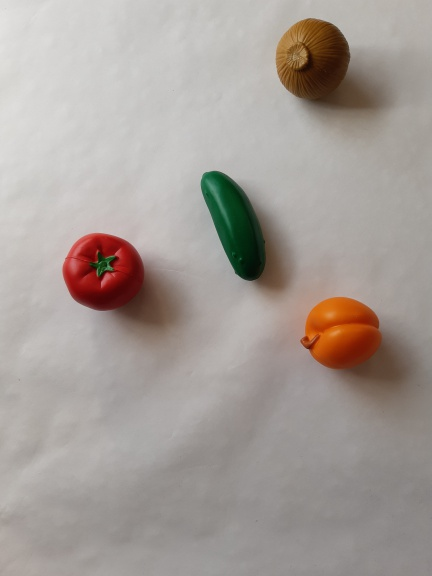apricot: (297, 292, 389, 372)
cucumber: (191, 164, 279, 296)
onion: (265, 12, 354, 104)
tomato: (50, 226, 157, 319)
